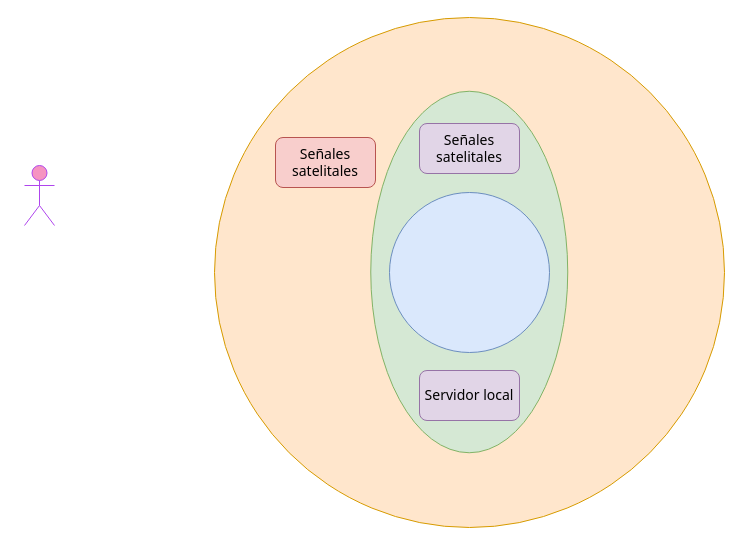
The diagram is 742 pixels wide and 545 high, and some of its shapes have lost their labels. Each missing label, with the centre of its shape:
"Copiloto" belongs at [39,195].
"Sistema de Gestión y Seguimiento de Aeronave de la Fuerza Aérea Mexicana (FAM)" belongs at [469,272].
